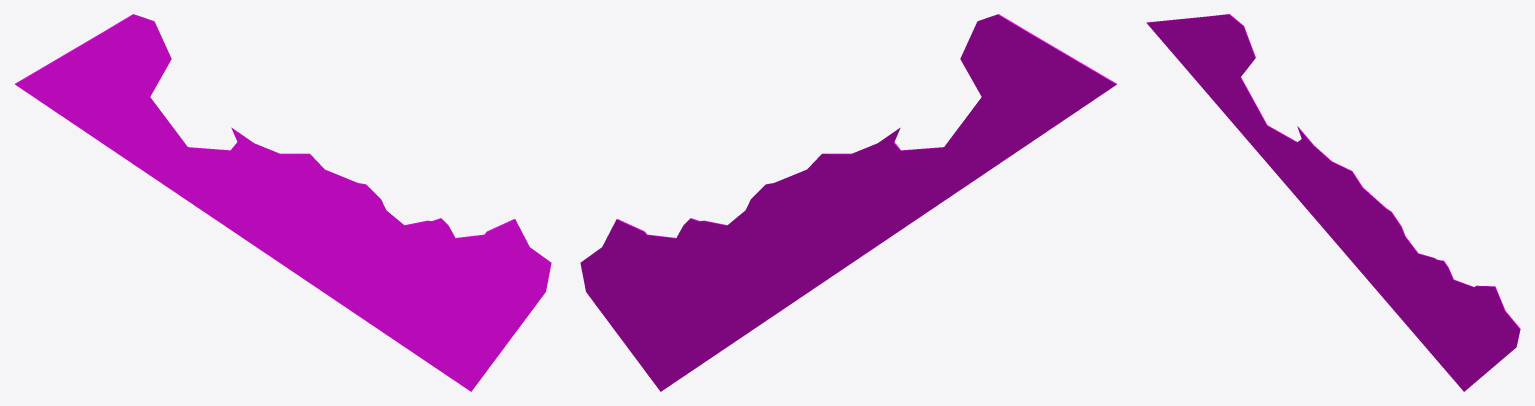
3 views of the same model, side by side, from view 1: azimuth 30°, elevation 25°; view 2: azimuth 150°, elevation 25°; view 3: azimuth 330°, elevation 25° (orthographic). The views are drawn at different scales.
Parts seen in each view (by area): view 1: Group__Geometry_0; view 2: Group__Geometry_0; view 3: Group__Geometry_0.
Boxes of the visible parts, box(x1,y1,x2,y2) form: Group__Geometry_0: box(14, 14, 551, 391); Group__Geometry_0: box(580, 14, 1117, 391); Group__Geometry_0: box(1146, 14, 1520, 391).
Size of the model in its own units: 1888 by 1546 by 5.
